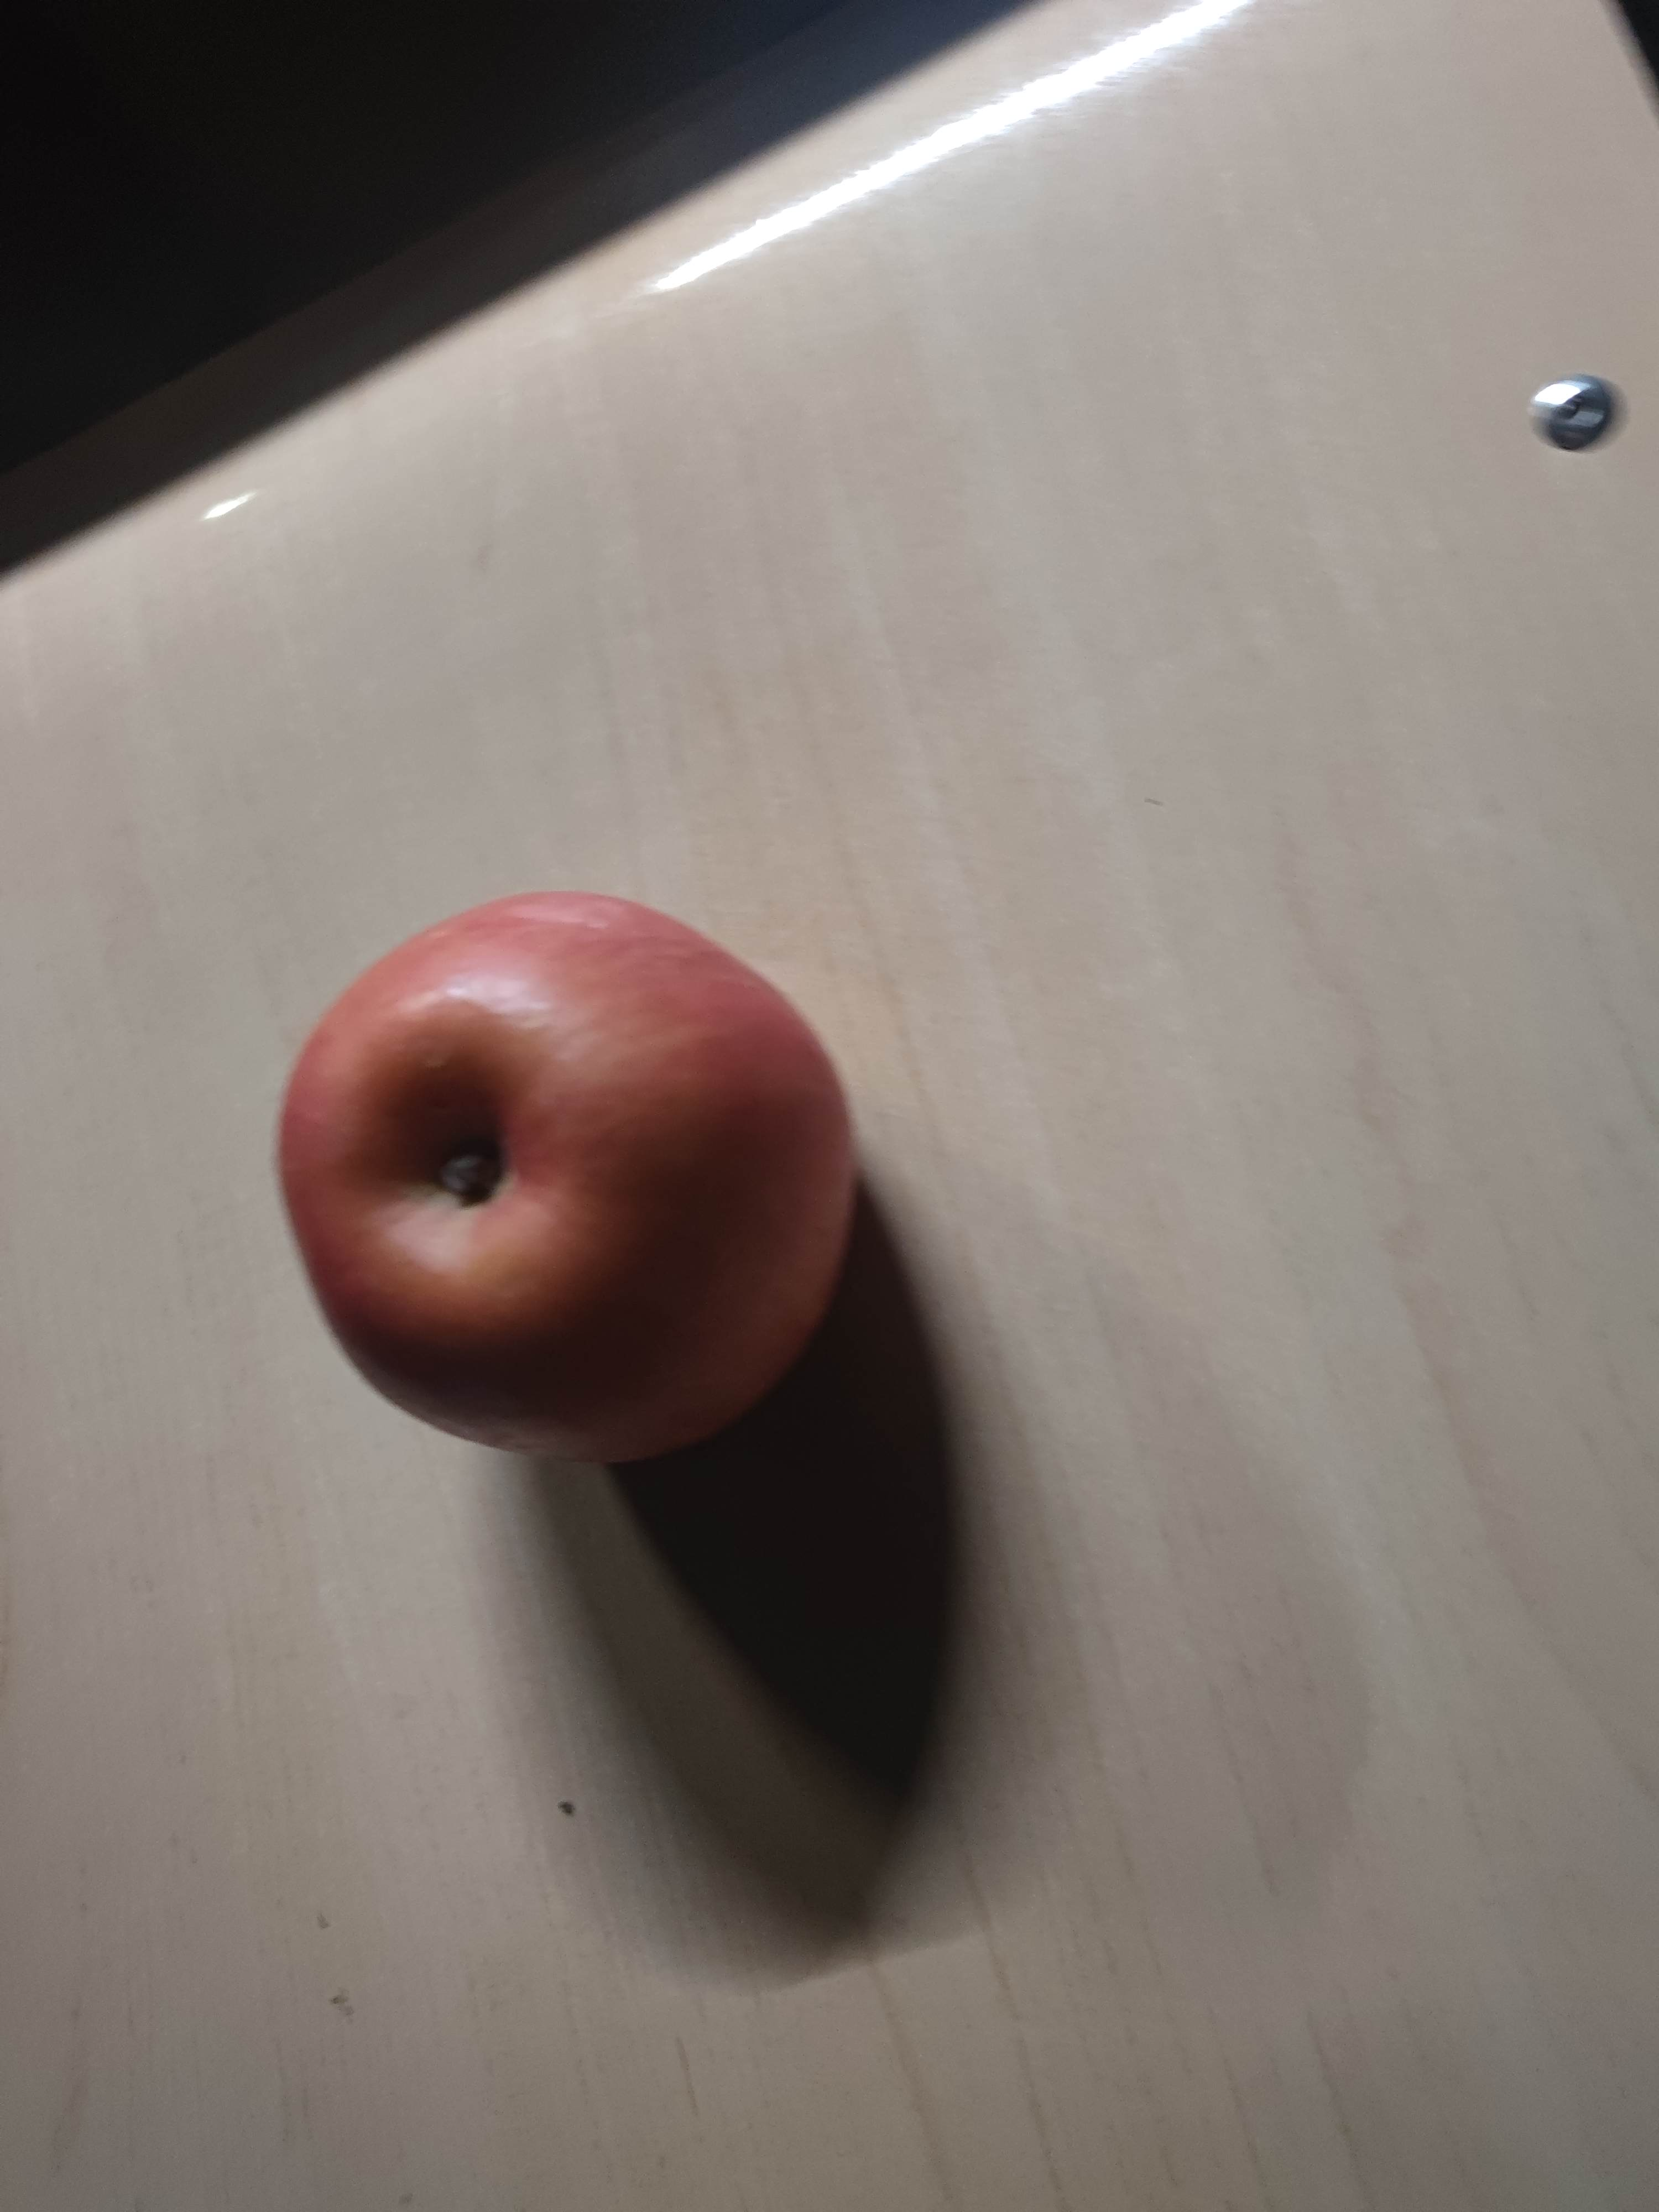apple: (281, 890, 864, 1461)
